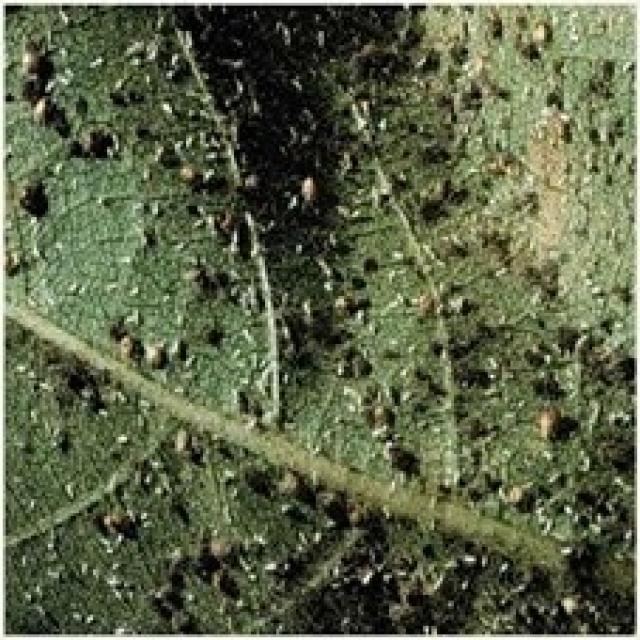Spider_Mites: (26, 18, 615, 624)
